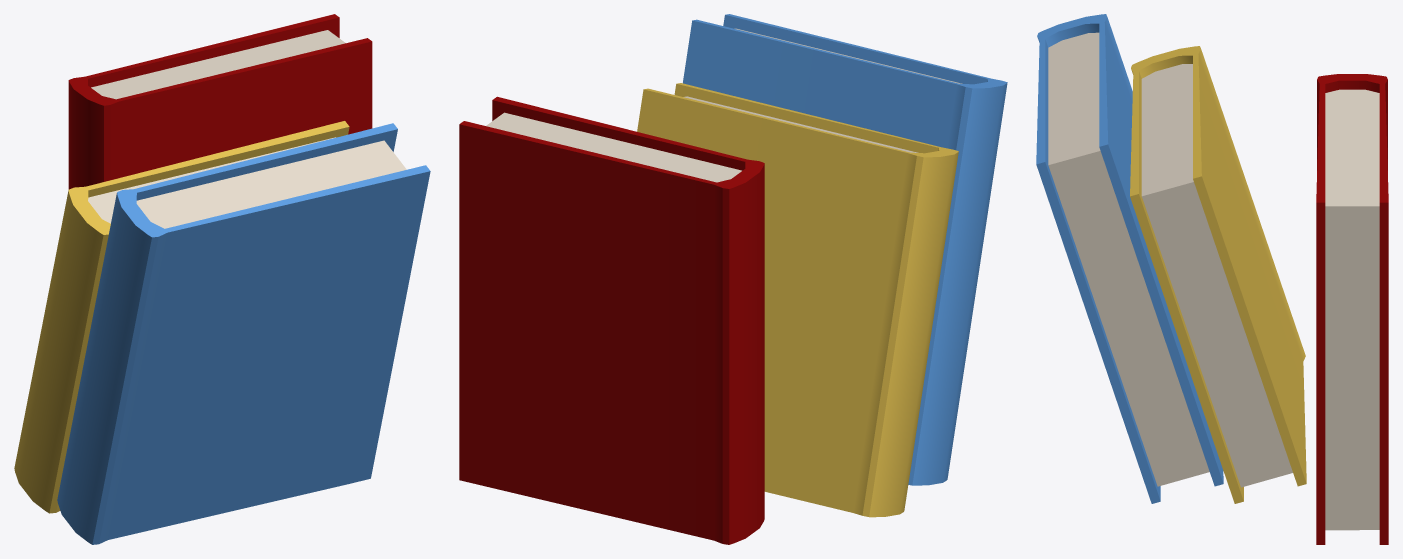
File: BookPile2.fbx
3 views of the same model, side by side, from view 1: azimuth 30°, elevation 25°; view 2: azimuth 150°, elevation 25°; view 3: azimuth 270°, elevation 25° (orthographic). The views are drawn at different scales.
Visible parts, largest first — view 1: polySurface128; view 2: polySurface128; view 3: polySurface128.
Part boxes in pixels (x1,y1,x2,y2): polySurface128: [14, 14, 430, 544]; polySurface128: [459, 14, 1007, 544]; polySurface128: [1036, 14, 1388, 544].
Bounding box in the file's own units: 0.5898 × 0.5667 × 0.5032.
